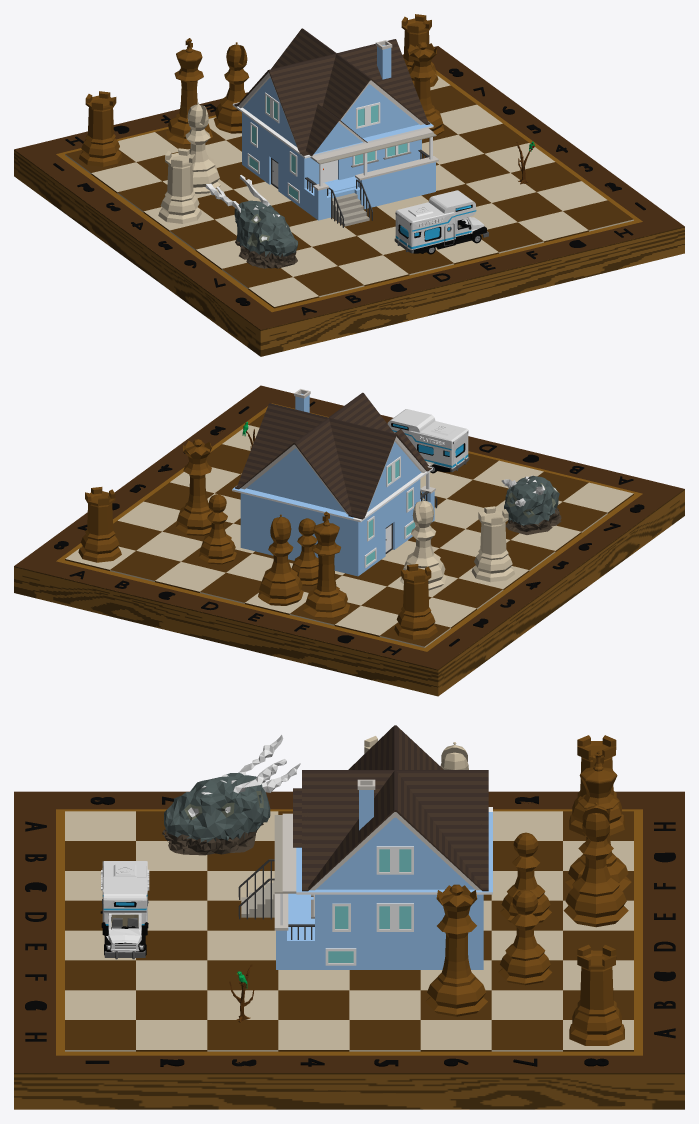
3 views of the same model, one above another, from view 1: azimuth 30°, elevation 25°; view 2: azimuth 150°, elevation 25°; view 3: azimuth 270°, elevation 25° (orthographic). The views are drawn at different scales.
Parts seen in each view (by area): view 1: Cube.002, Cube.1594, VEHICLES_CAMPER, OBJRANDOM_METEORITE; view 2: Cube.002, Cube.1594, VEHICLES_CAMPER, OBJRANDOM_METEORITE; view 3: Cube.002, Cube.1594, OBJRANDOM_METEORITE, VEHICLES_CAMPER.
Part boxes in pixels (<box>): Cube.002: <box>14,14,684,356</box>; Cube.1594: <box>232,28,438,227</box>; VEHICLES_CAMPER: <box>394,190,488,254</box>; OBJRANDOM_METEORITE: <box>205,175,298,268</box>; Cube.002: <box>14,385,684,696</box>; Cube.1594: <box>232,389,437,576</box>; VEHICLES_CAMPER: <box>387,409,469,473</box>; OBJRANDOM_METEORITE: <box>501,475,561,534</box>; Cube.002: <box>14,735,684,1109</box>; Cube.1594: <box>238,725,492,969</box>; OBJRANDOM_METEORITE: <box>162,735,300,855</box>; VEHICLES_CAMPER: <box>100,861,149,959</box>.
Bounding box in the file's own units: 3981 × 1492 × 4012.
Materials: 38 (2 with a texture image).
